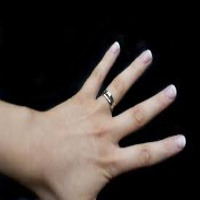ring: (117, 40, 160, 108)
